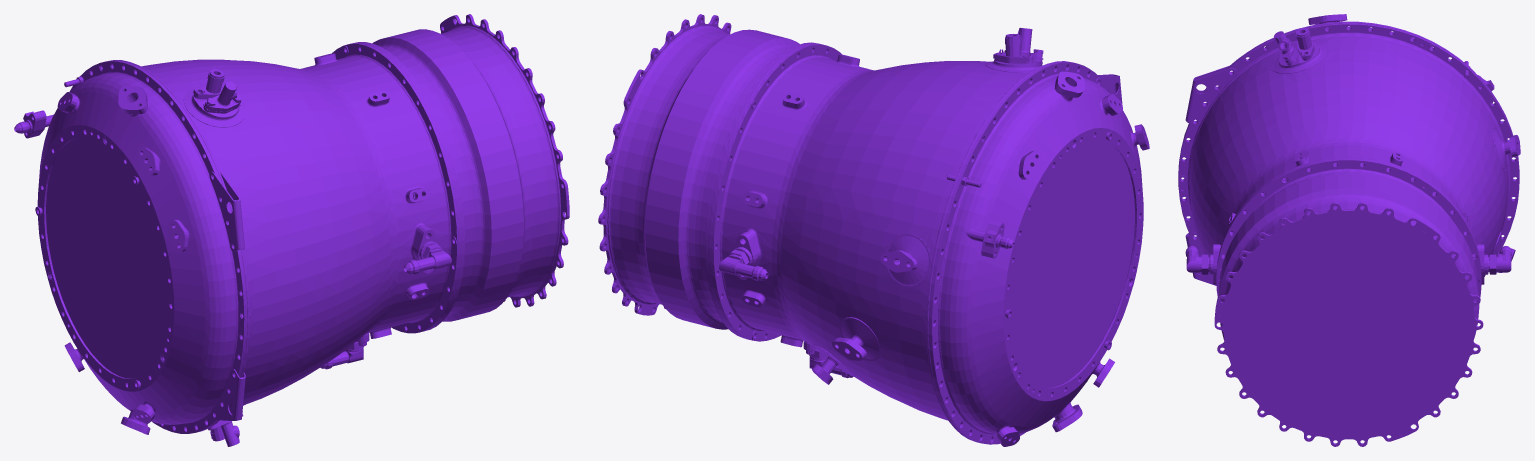
3 renders of one model, left to right at view 1: azimuth 30°, elevation 25°; view 2: azimuth 150°, elevation 25°; view 3: azimuth 270°, elevation 25°, orthographic. The views are drawn at different scales.
Visible parts, largest first — view 1: M03燃气发生器; view 2: M03燃气发生器; view 3: M03燃气发生器.
Boxes of the visible parts, x1,y1,x2,y2 form: M03燃气发生器: (14,14,569,446); M03燃气发生器: (598,14,1149,446); M03燃气发生器: (1178,14,1520,446).
Bounding box in the file's own units: 456 × 396 × 373.
